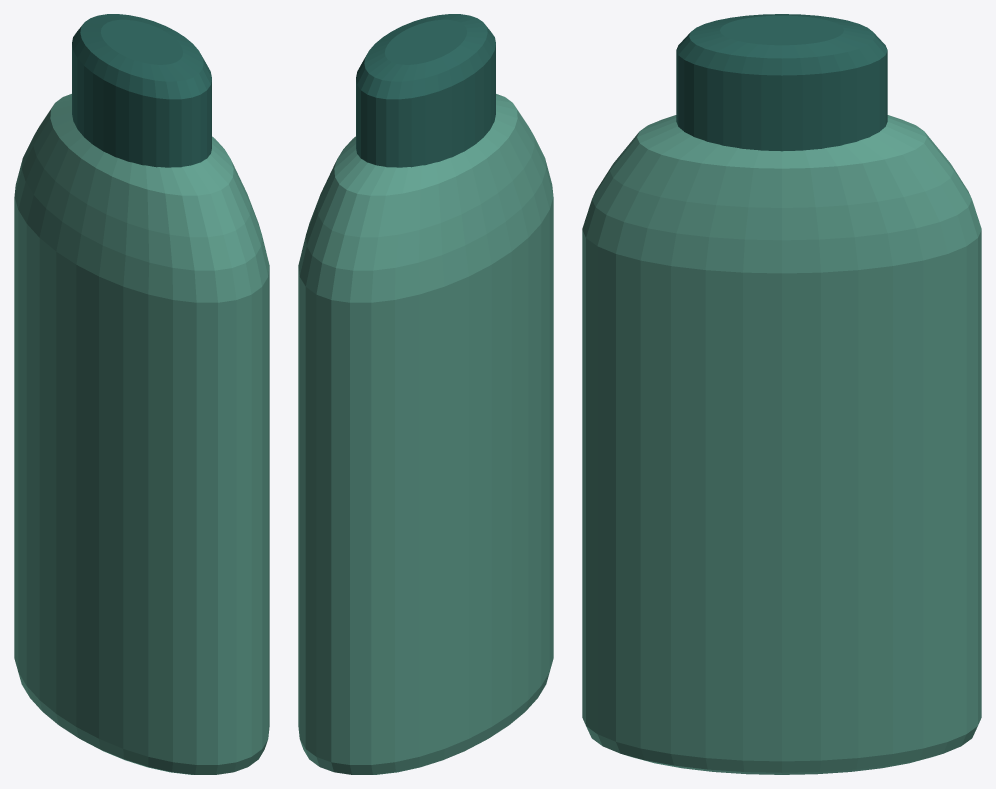
The model's file is shampo 2.fbx.
3 renders of one model, left to right at view 1: azimuth 30°, elevation 25°; view 2: azimuth 150°, elevation 25°; view 3: azimuth 270°, elevation 25°, orthographic. The views are drawn at different scales.
Visible parts, largest first — view 1: Cylinder, Cylinder.001; view 2: Cylinder, Cylinder.001; view 3: Cylinder, Cylinder.001.
Boxes of the visible parts, x1,y1,x2,y2 form: Cylinder: (14, 94, 269, 774); Cylinder.001: (72, 14, 211, 167); Cylinder: (298, 94, 553, 774); Cylinder.001: (356, 14, 495, 167); Cylinder: (582, 115, 981, 774); Cylinder.001: (676, 14, 887, 151).
Size of the model in its own units: 104 by 389 by 200.
